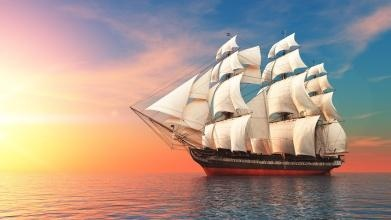fanchuan: (131, 32, 361, 174)
